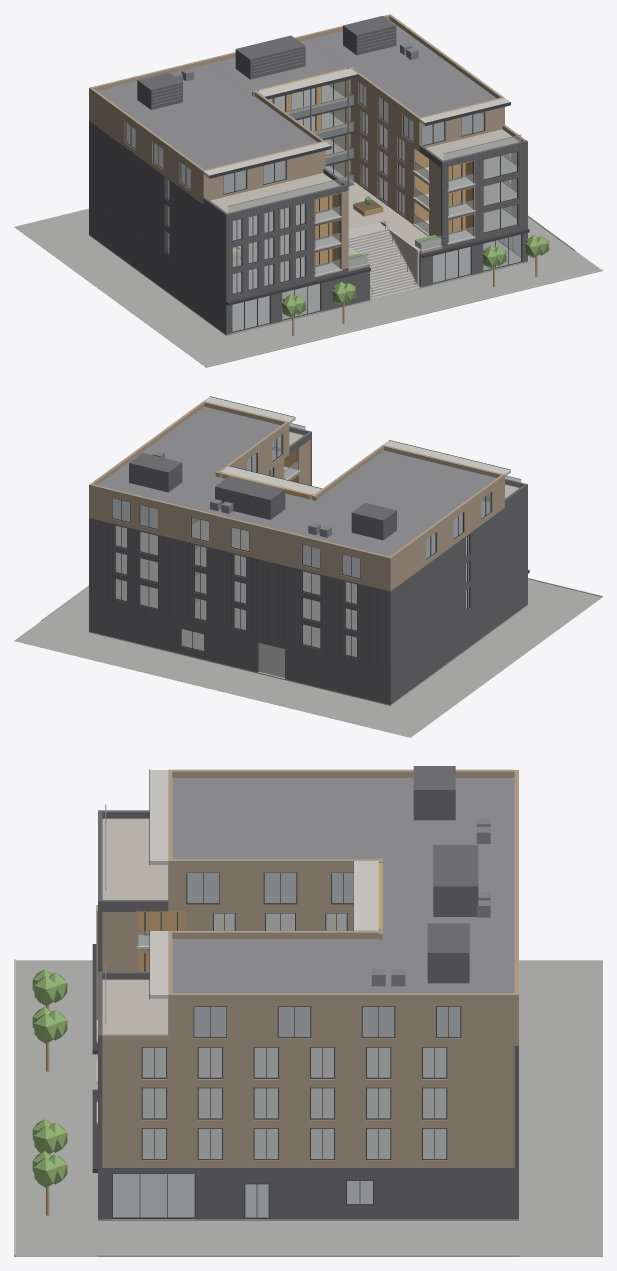
Rendered from clay-courtyard-mixed-use-midrise-clay-v008.glb.
The picture shows the model from 3 angles, top to bottom: view 1: azimuth 30°, elevation 25°; view 2: azimuth 150°, elevation 25°; view 3: azimuth 270°, elevation 25°; orthographic projection. The views are drawn at different scales.
Parts seen in each view (by area): view 1: CLAY_WALL, CLAY_FOUNDATION, CLAY_MEMBRANE, CLAY_GLASS, CLAY_TAN, CLAY_TRIM, CLAY_FLOOR, CLAY_CONCRETE, CLAY_SAND, CLAY_CEDAR, CLAY_HARDWARE, CLAY_PALE (+4 smaller); view 2: CLAY_WALL, CLAY_FOUNDATION, CLAY_MEMBRANE, CLAY_TAN, CLAY_GLASS, CLAY_FLOOR, CLAY_TRIM, CLAY_JOINT, CLAY_PALE, CLAY_HARDWARE, CLAY_CEDAR; view 3: CLAY_TAN, CLAY_FOUNDATION, CLAY_MEMBRANE, CLAY_WALL, CLAY_GLASS, CLAY_FLOOR, CLAY_SAND, CLAY_TRIM, CLAY_PALE, CLAY_PLANTING, CLAY_STONE, CLAY_HARDWARE (+1 smaller).
Part boxes in pixels (<box>): CLAY_WALL: <box>89,16,527,334</box>; CLAY_FOUNDATION: <box>14,207,601,367</box>; CLAY_MEMBRANE: <box>97,20,513,193</box>; CLAY_GLASS: <box>126,81,521,331</box>; CLAY_TAN: <box>89,14,525,269</box>; CLAY_TRIM: <box>125,74,529,332</box>; CLAY_FLOOR: <box>167,50,516,293</box>; CLAY_CONCRETE: <box>314,167,475,300</box>; CLAY_SAND: <box>210,129,518,268</box>; CLAY_CEDAR: <box>258,68,475,275</box>; CLAY_HARDWARE: <box>152,28,521,295</box>; CLAY_PALE: <box>203,68,509,177</box>; CLAY_WALL: <box>89,426,527,704</box>; CLAY_FOUNDATION: <box>14,579,601,737</box>; CLAY_MEMBRANE: <box>97,406,496,577</box>; CLAY_TAN: <box>89,401,504,602</box>; CLAY_GLASS: <box>112,423,521,656</box>; CLAY_FLOOR: <box>116,472,468,656</box>; CLAY_TRIM: <box>111,396,529,657</box>; CLAY_JOINT: <box>94,520,386,669</box>; CLAY_PALE: <box>204,396,510,677</box>; CLAY_HARDWARE: <box>152,423,521,537</box>; CLAY_CEDAR: <box>221,450,311,499</box>; CLAY_TAN: <box>96,769,518,1167</box>; CLAY_FOUNDATION: <box>14,960,602,1256</box>; CLAY_MEMBRANE: <box>102,778,514,1036</box>; CLAY_WALL: <box>98,766,518,1219</box>; CLAY_GLASS: <box>105,873,460,1217</box>; CLAY_FLOOR: <box>142,778,446,1158</box>; CLAY_SAND: <box>102,818,167,1033</box>; CLAY_TRIM: <box>92,769,461,1218</box>; CLAY_PALE: <box>150,770,378,998</box>; CLAY_PLANTING: <box>32,969,67,1187</box>; CLAY_STONE: <box>14,959,518,1256</box>; CLAY_HARDWARE: <box>105,770,490,1024</box>.
Size of the model in its own units: 50 by 19.72 by 42.
